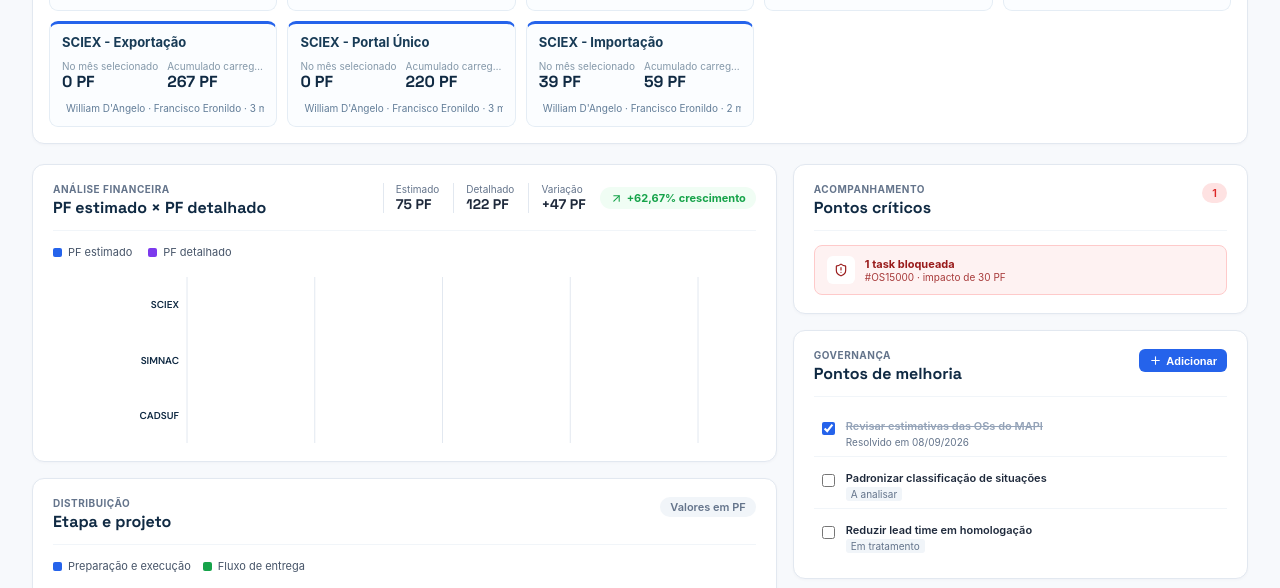
PfForecastPage Component › permite abrir o modal de adicionar melhoria
The image size is (1280, 588).
(page scrolled)
Click the button "Adicionar": (1183, 361) [1139,350,1227,372]
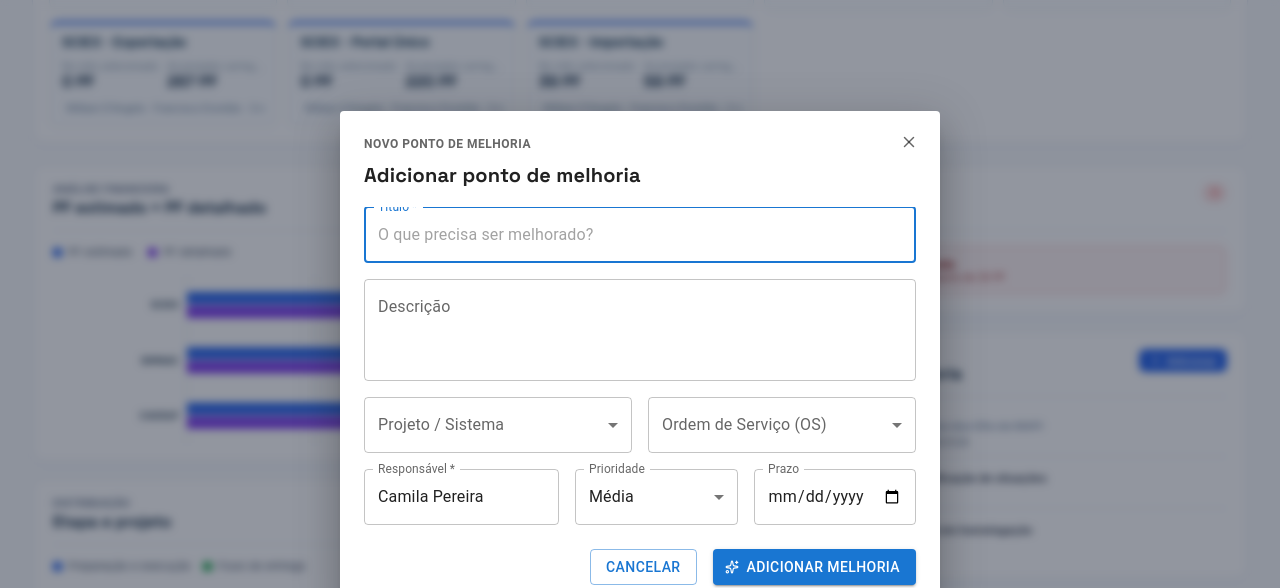
Expected: the text "NOVO PONTO DE MELHORIA" is shown, [364,137,531,151]
Expected: the field with placeholder "O que precisa ser melhorado?" is shown, [364,207,916,263]
